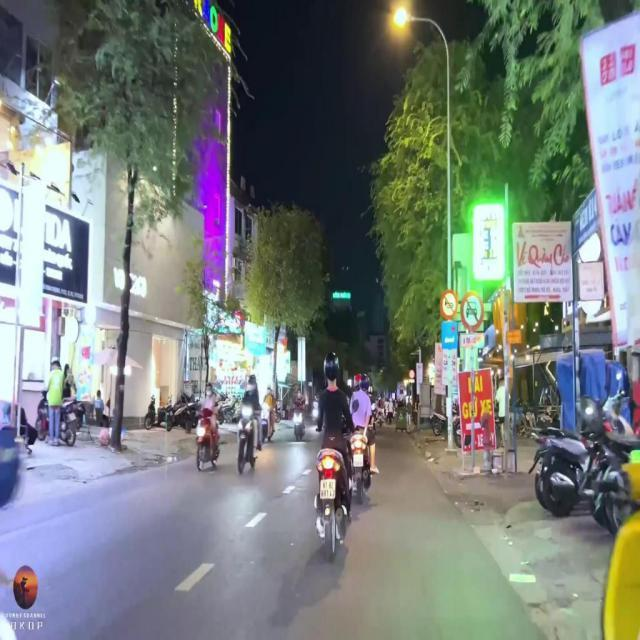103a-cam-oto: (461, 292, 484, 330)
128-cam-su-dung-coi: (440, 288, 458, 320)
